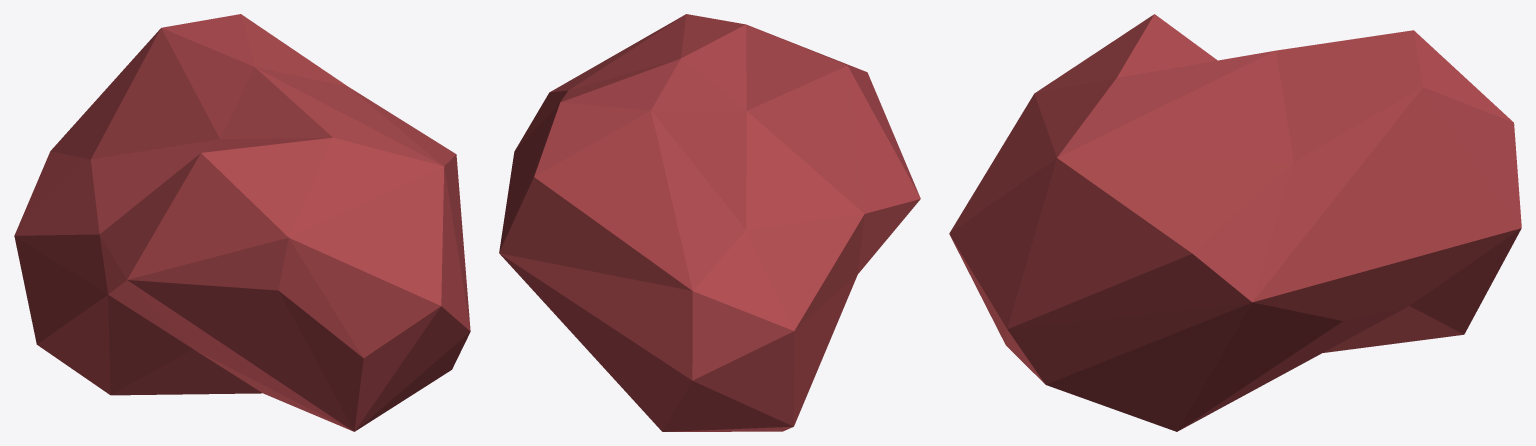
The model's file is Rock_B.fbx.
3 renders of one model, left to right at view 1: azimuth 30°, elevation 25°; view 2: azimuth 150°, elevation 25°; view 3: azimuth 270°, elevation 25°, orthographic. The views are drawn at different scales.
Visible parts, largest first — view 1: Rock B; view 2: Rock B; view 3: Rock B.
Part boxes in pixels (x1,y1,x2,y2): Rock B: (14, 14, 470, 431); Rock B: (499, 14, 920, 431); Rock B: (949, 14, 1521, 431).
Bounding box in the file's own units: 45.28 × 39.04 × 56.69.
